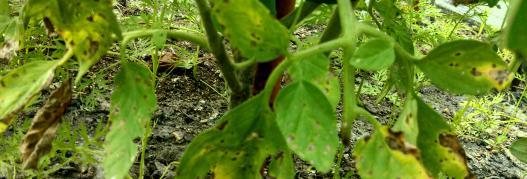Tomato Septoria leaf spot: (37, 0, 130, 78), (270, 80, 343, 173), (420, 38, 519, 106), (100, 61, 156, 179), (400, 98, 480, 179), (0, 58, 65, 143), (207, 0, 288, 68), (355, 124, 442, 179)
